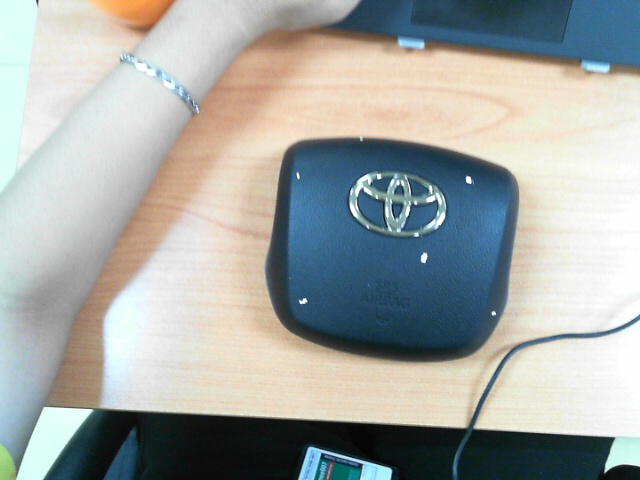Airbag: (465, 175, 474, 186), (420, 252, 428, 264), (298, 297, 309, 304), (296, 172, 300, 180), (491, 311, 497, 316), (360, 136, 364, 142)
